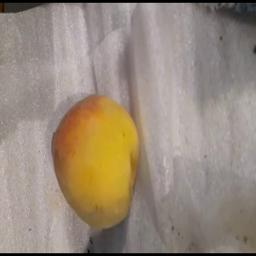Peach Semifresh: (45, 83, 154, 235)
